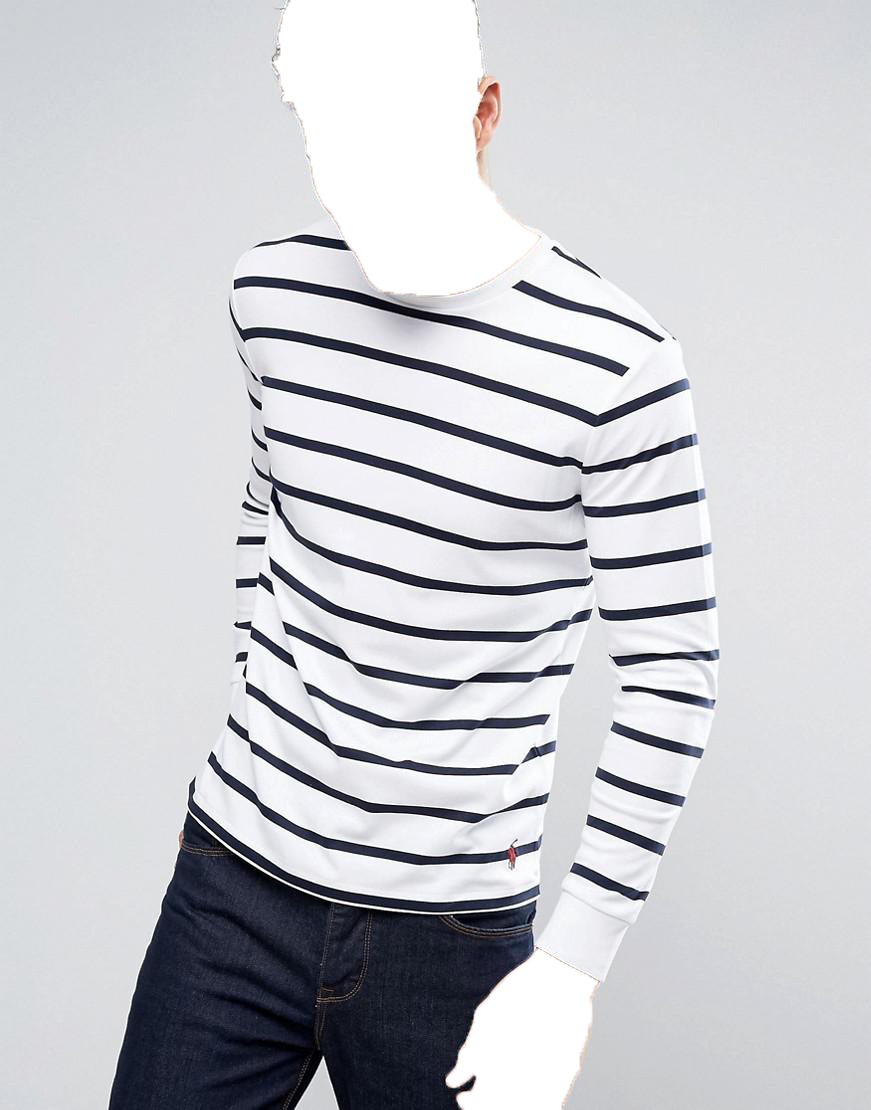teeshirt: (196, 208, 729, 959)
